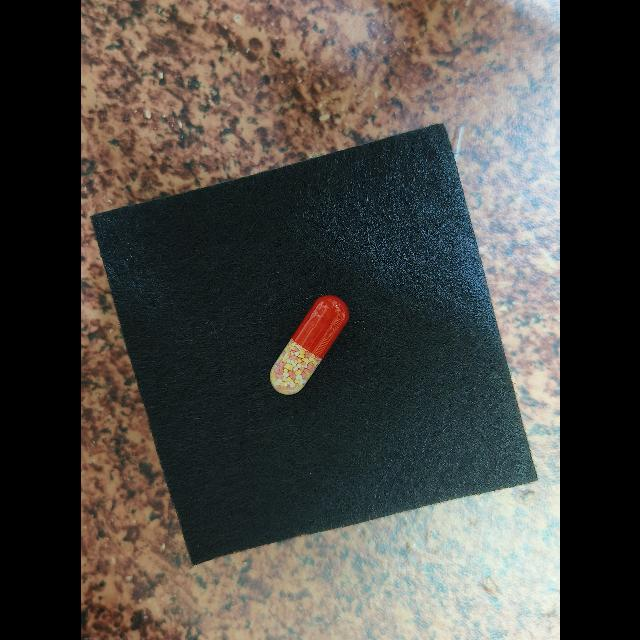Intact Capsule: (269, 295, 349, 395)
